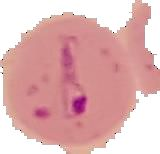parasitized: (14, 23, 134, 146), (51, 30, 93, 124), (26, 81, 104, 126)
